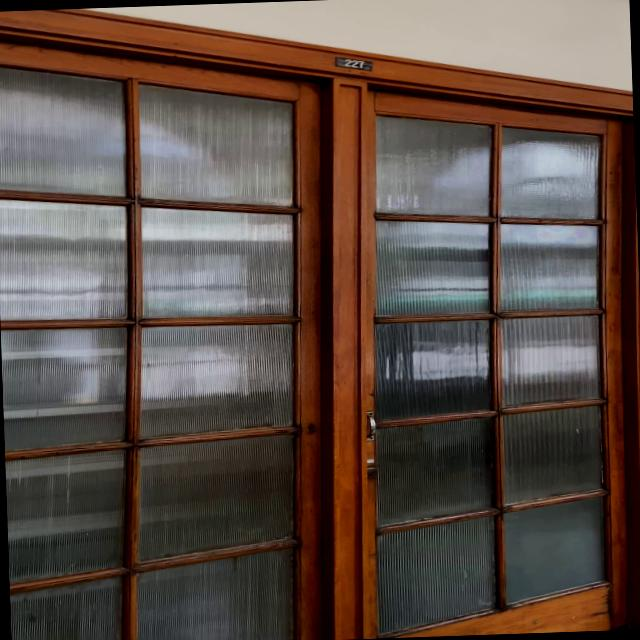room227: (332, 54, 373, 72)
